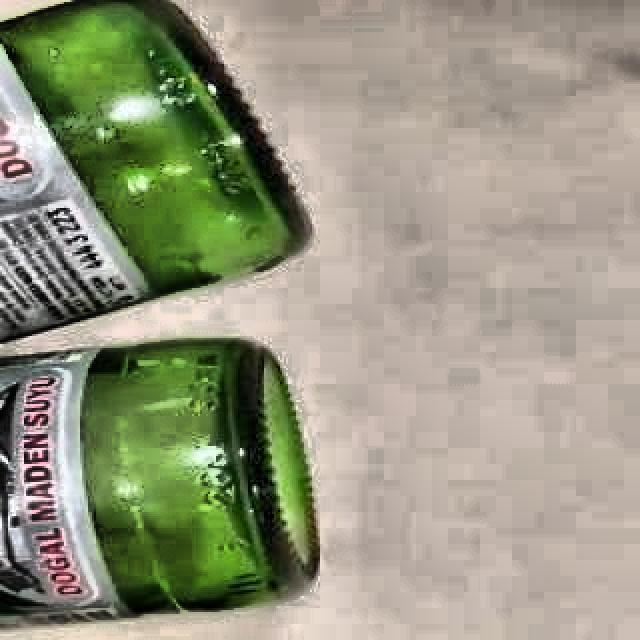glass: (0, 340, 317, 633)
